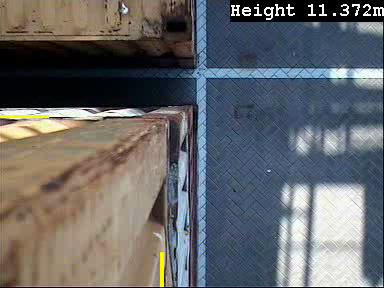groundmarker_2: (200, 50, 242, 109), (200, 224, 242, 283)
